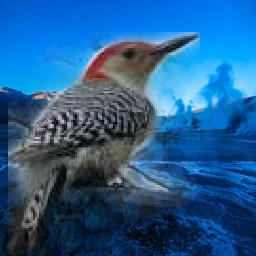Woodpecker: (8, 32, 200, 254)
